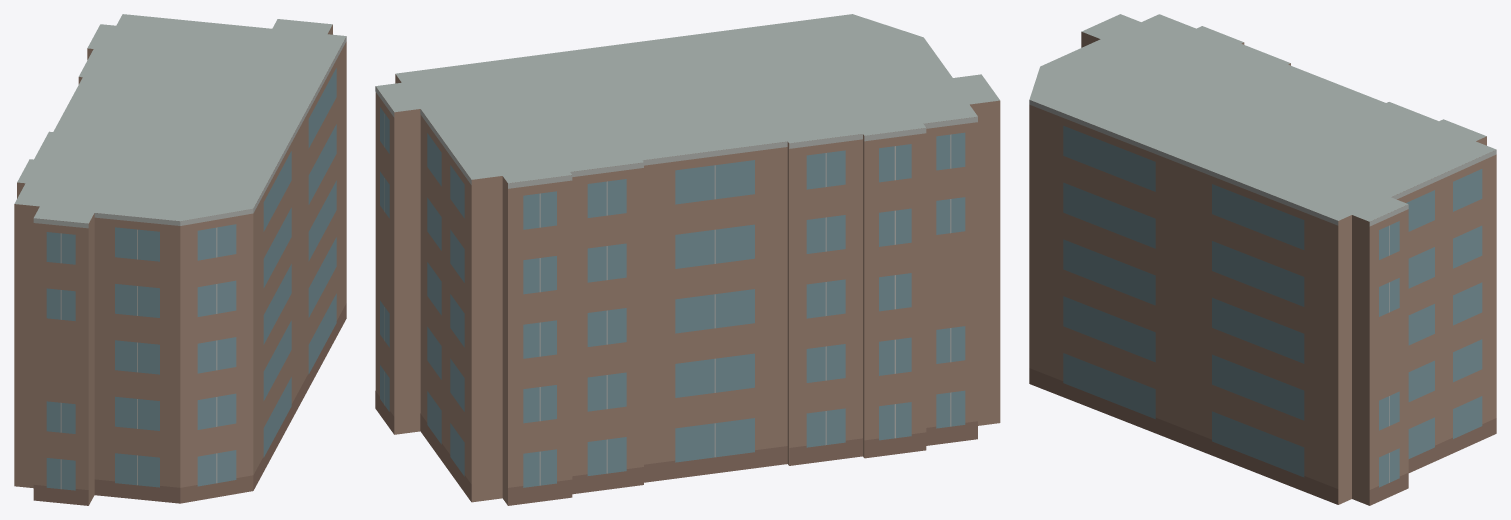
The model's file is survey-upis-33011406.glb.
3 renders of one model, left to right at view 1: azimuth 30°, elevation 25°; view 2: azimuth 150°, elevation 25°; view 3: azimuth 270°, elevation 25°, orthographic. The views are drawn at different scales.
Visible parts, largest first — view 1: survey-upis-33011406.tmp; view 2: survey-upis-33011406.tmp; view 3: survey-upis-33011406.tmp.
Boxes of the visible parts, box(x1,y1,x2,y2) form: survey-upis-33011406.tmp: box(14, 14, 346, 505); survey-upis-33011406.tmp: box(375, 14, 1000, 505); survey-upis-33011406.tmp: box(1029, 14, 1496, 505).
Size of the model in its own units: 22.43 by 14.3 by 21.32.
